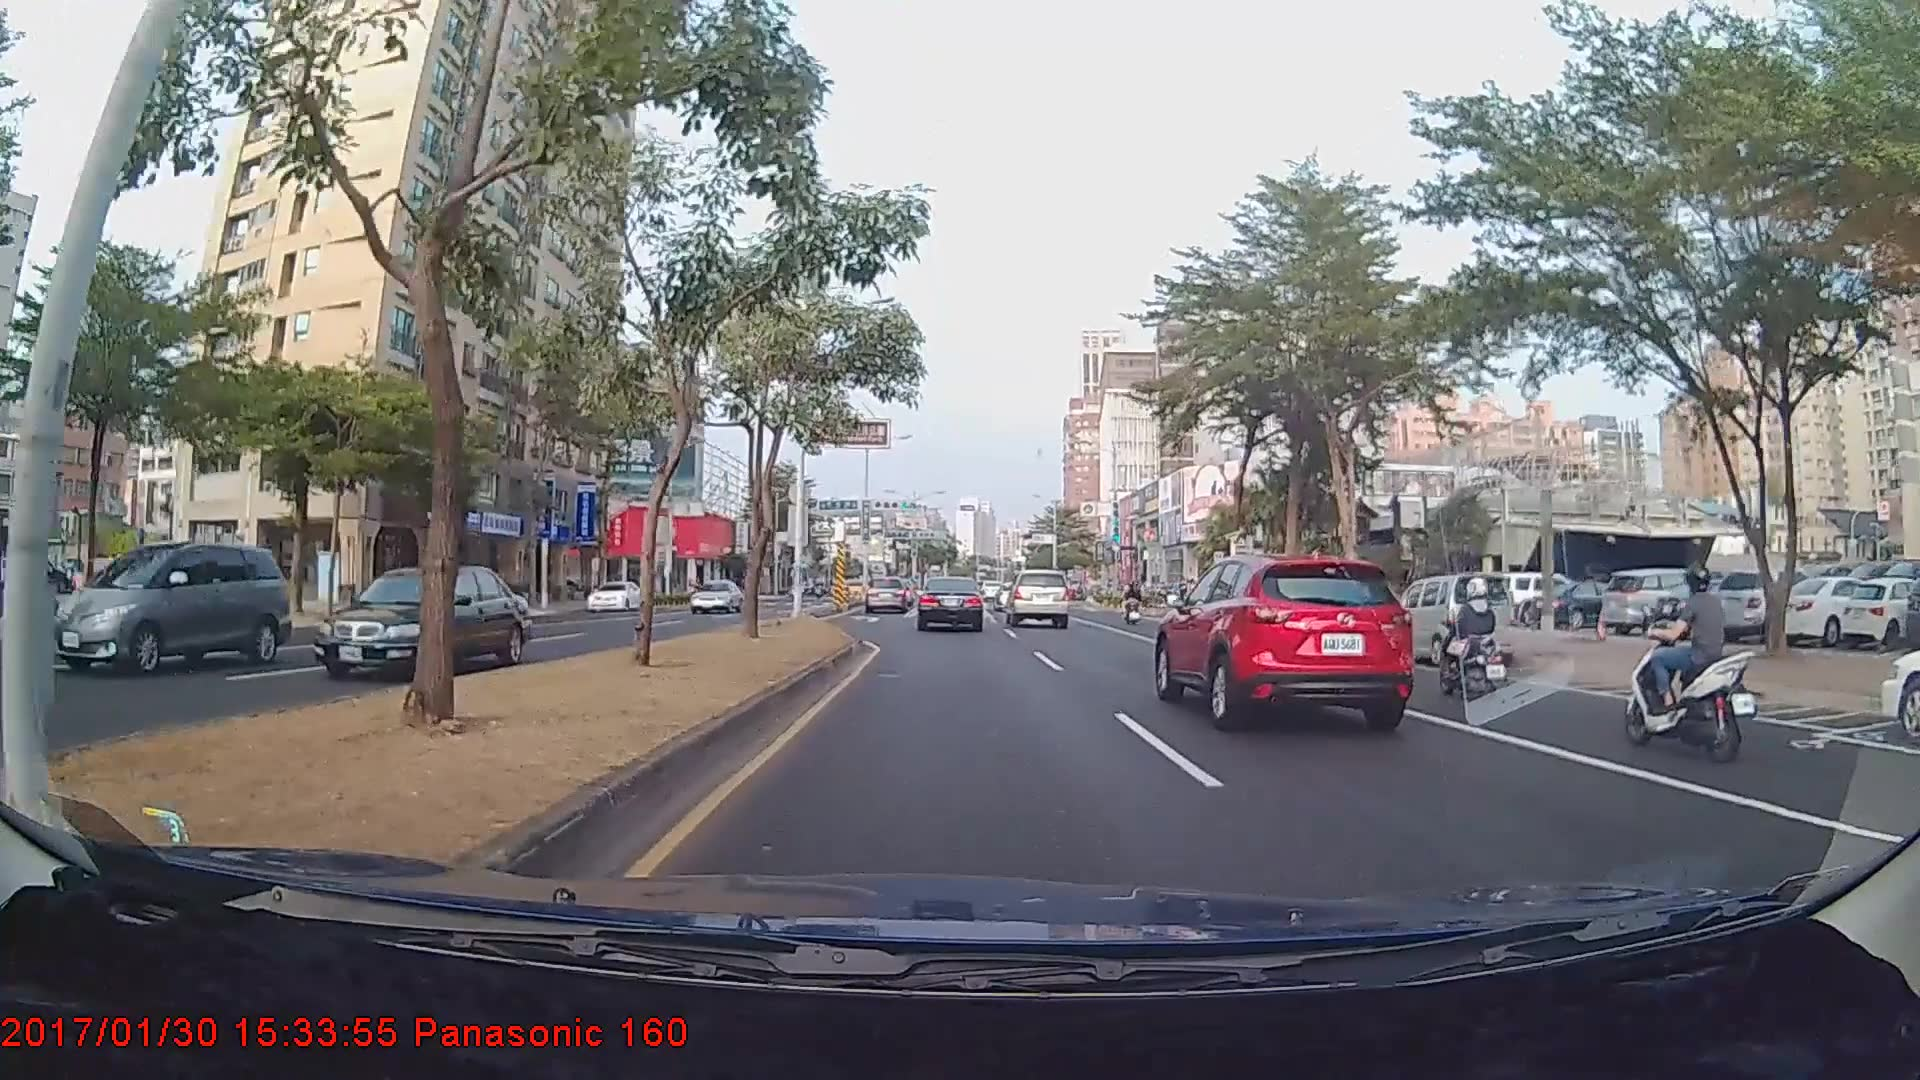rider: (1615, 555, 1765, 763), (1426, 573, 1521, 708), (1124, 586, 1150, 630)
vehicle: (1152, 548, 1412, 729), (48, 541, 291, 675), (311, 562, 527, 679), (1382, 572, 1513, 665), (1596, 568, 1723, 636), (1004, 567, 1071, 628), (915, 575, 984, 632), (585, 578, 643, 613), (687, 577, 742, 615), (863, 575, 910, 615)
